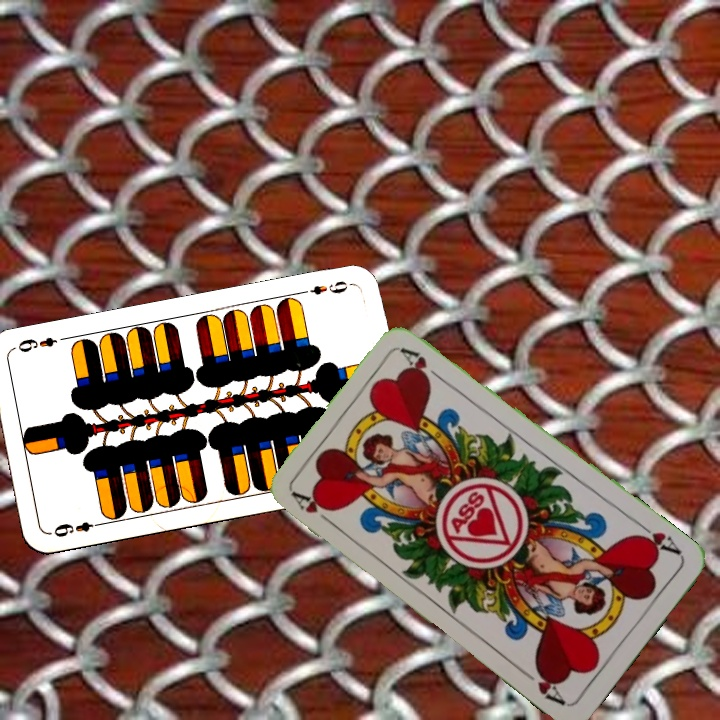E9: (49, 517, 106, 540), (296, 276, 355, 297)
HA: (630, 517, 684, 558), (288, 488, 339, 530)
